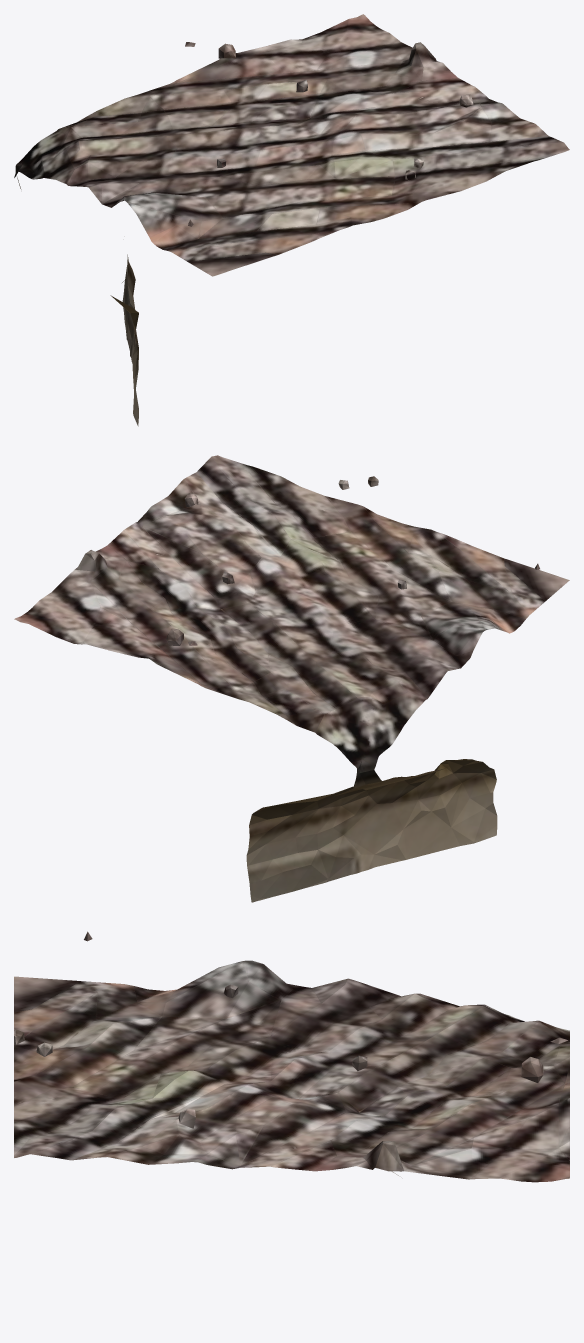
3 renders of one model, top to bottom at view 1: azimuth 30°, elevation 25°; view 2: azimuth 150°, elevation 25°; view 3: azimuth 270°, elevation 25°, orthographic. The views are drawn at different scales.
Bounding box in the file's own units: 1.67 × 1.17 × 1.67.
Materials: 3 (3 with a texture image).
